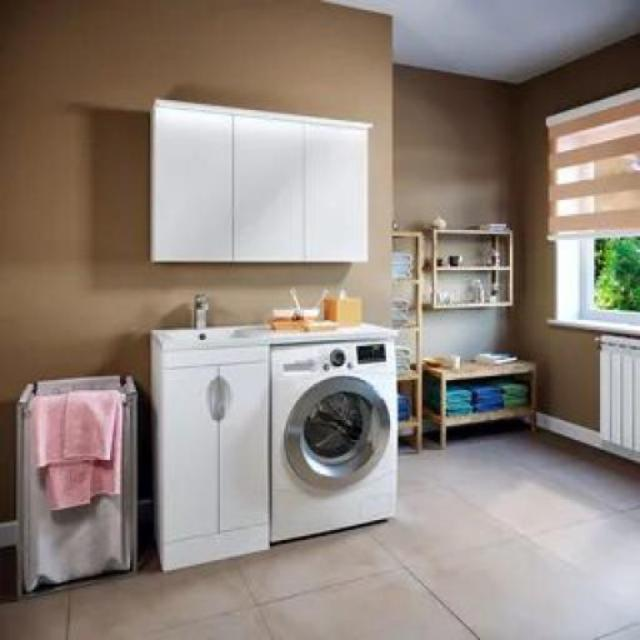Washing-Machine: (270, 339, 396, 527)
